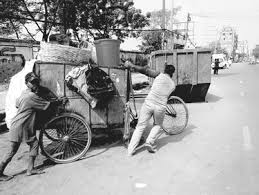garbagevan: (32, 59, 189, 165)
suv: (212, 53, 231, 69)
three wheelers (CNG): (248, 56, 257, 66)
